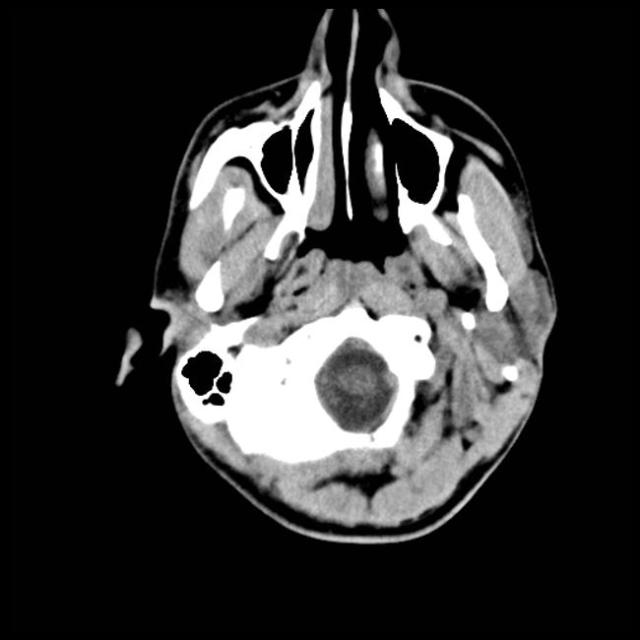lesion: (117, 7, 561, 545)
